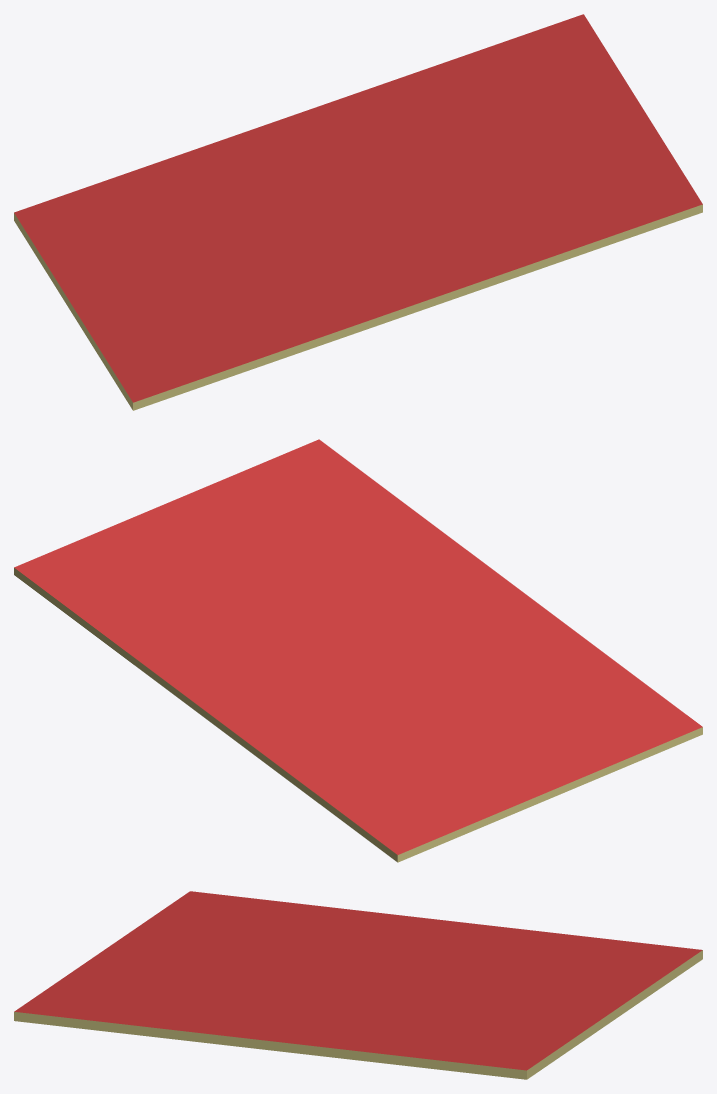
The picture shows the model from 3 angles, top to bottom: view 1: azimuth 30°, elevation 25°; view 2: azimuth 150°, elevation 25°; view 3: azimuth 270°, elevation 25°; orthographic projection. The views are drawn at different scales.
Size of the model in its own units: 7.71 by 6.74 by 1.76.
